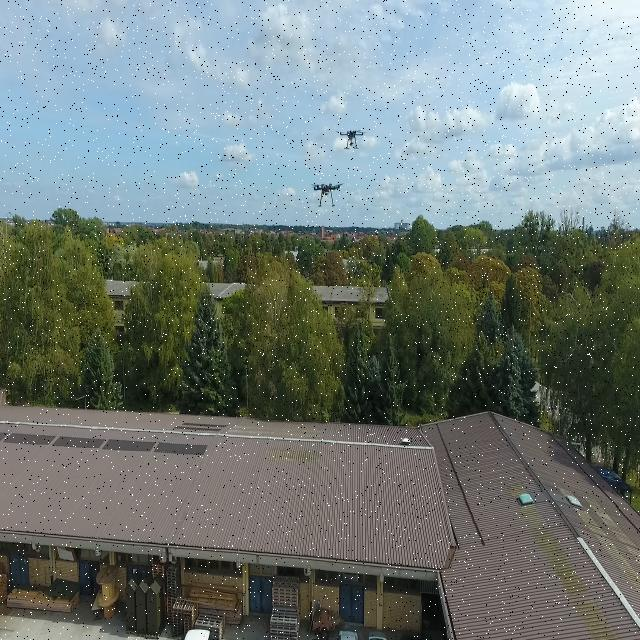UAV: (304, 176, 349, 207), (330, 124, 372, 156)
